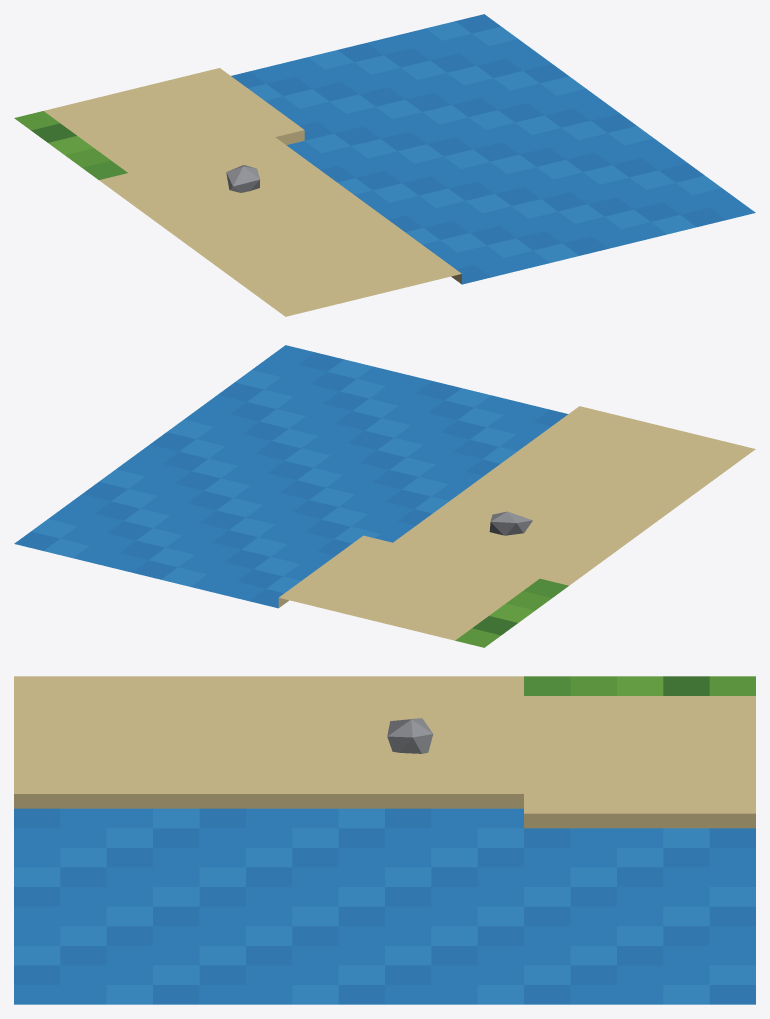
File: chunk_11_13.glb
3 renders of one model, top to bottom at view 1: azimuth 30°, elevation 25°; view 2: azimuth 150°, elevation 25°; view 3: azimuth 270°, elevation 25°, orthographic. The views are drawn at different scales.
Visible parts, largest first — view 1: chunk_11_13; view 2: chunk_11_13; view 3: chunk_11_13.
Boxes of the visible parts, x1,y1,x2,y2 form: chunk_11_13: (14,14,755,316); chunk_11_13: (14,345,755,647); chunk_11_13: (14,676,755,1004).
Size of the model in its own units: 16 by 1.03 by 16.
